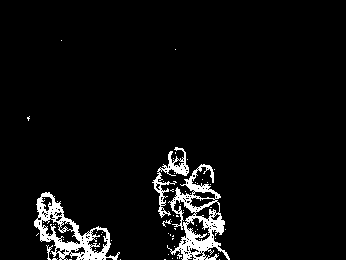person: (153, 147, 186, 243)
